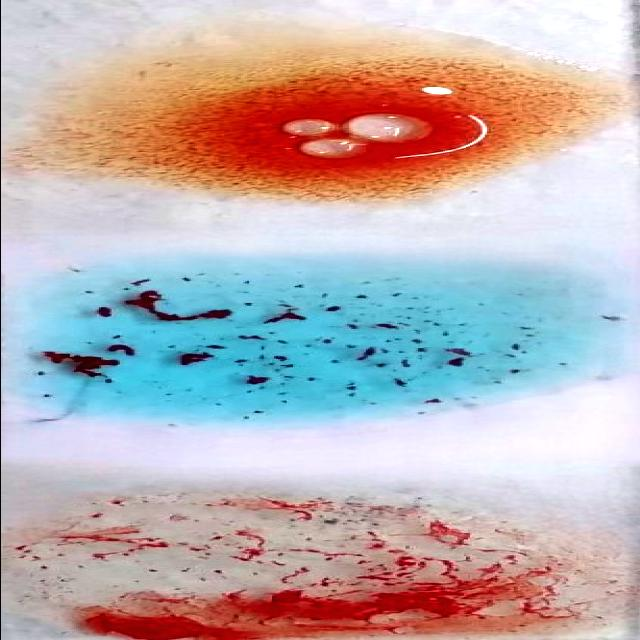A: (0, 262, 617, 418)
B: (12, 35, 606, 196)
D: (0, 504, 621, 640)
